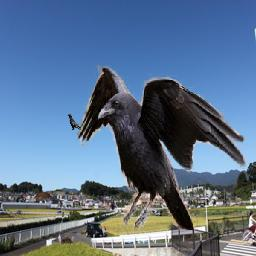Crow: (78, 66, 247, 231), (67, 114, 81, 130)
